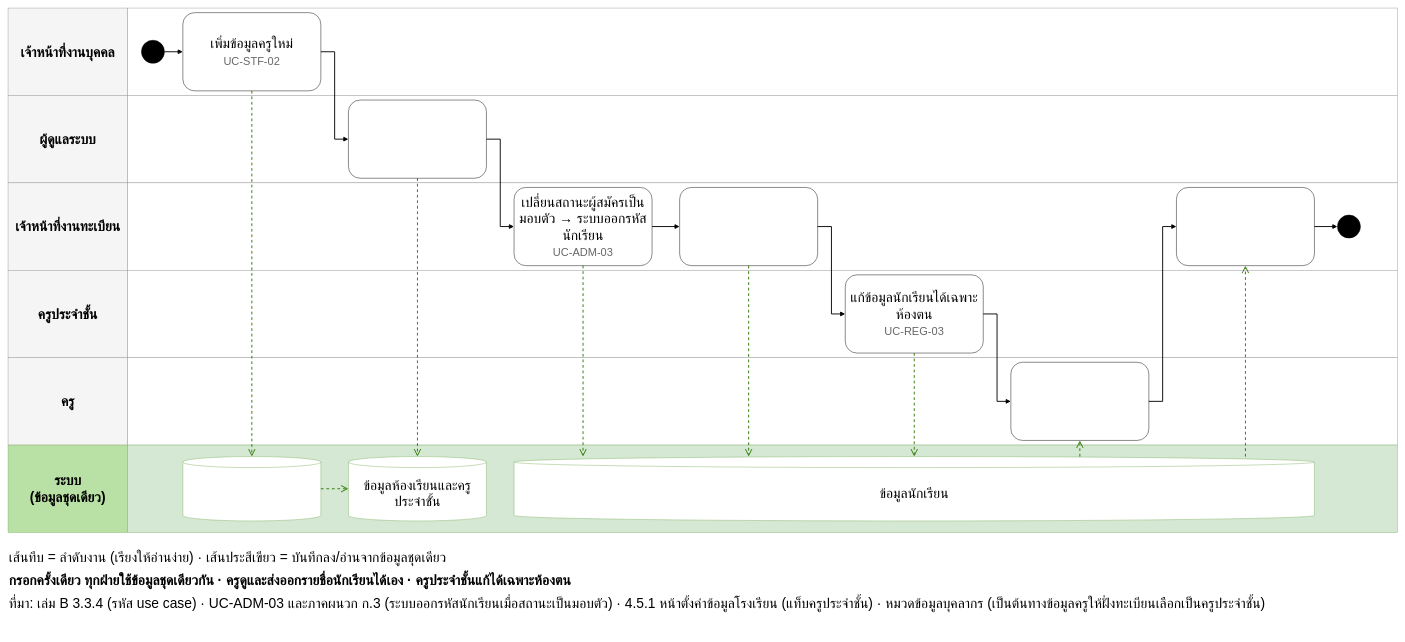
This 1405x642 diagram has some shape labels left out. The centre of each missing label's shape, as x and y in pixels:
ข้อมูลบุคลากร: the point at 251,488
ดูและส่งออกรายชื่อนักเรียน UC-REG-06 · 07: the point at 1079,401
ตั้งค่าข้อมูลโรงเรียน: แท็บครูประจำชั้น (เลือกจากรายชื่อบุคลากร) UC-SET-01: the point at 417,139
ย้ายห้อง/เลื่อนชั้นนักเรียนหลายคนพร้อมกัน · ตรวจผลก่อนยืนยัน UC-REG-04: the point at 748,226
ส่งออก ปพ.1 และ ปพ.2 UC-REG-09: the point at 1245,226
